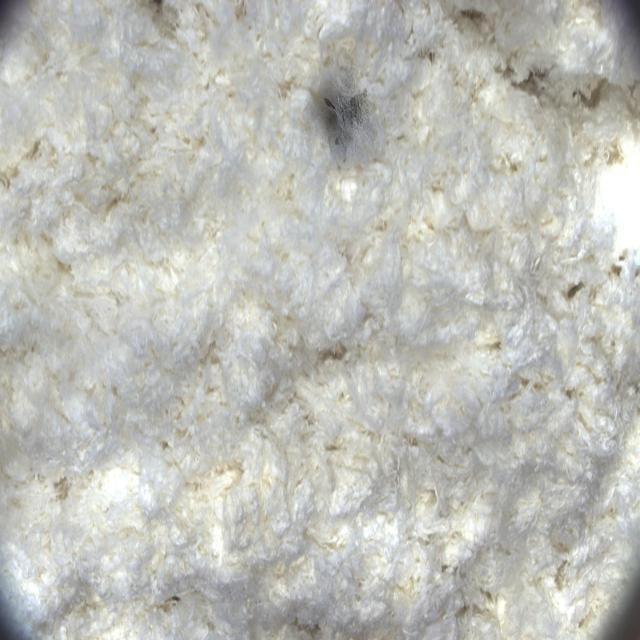dust: (262, 37, 401, 175)
